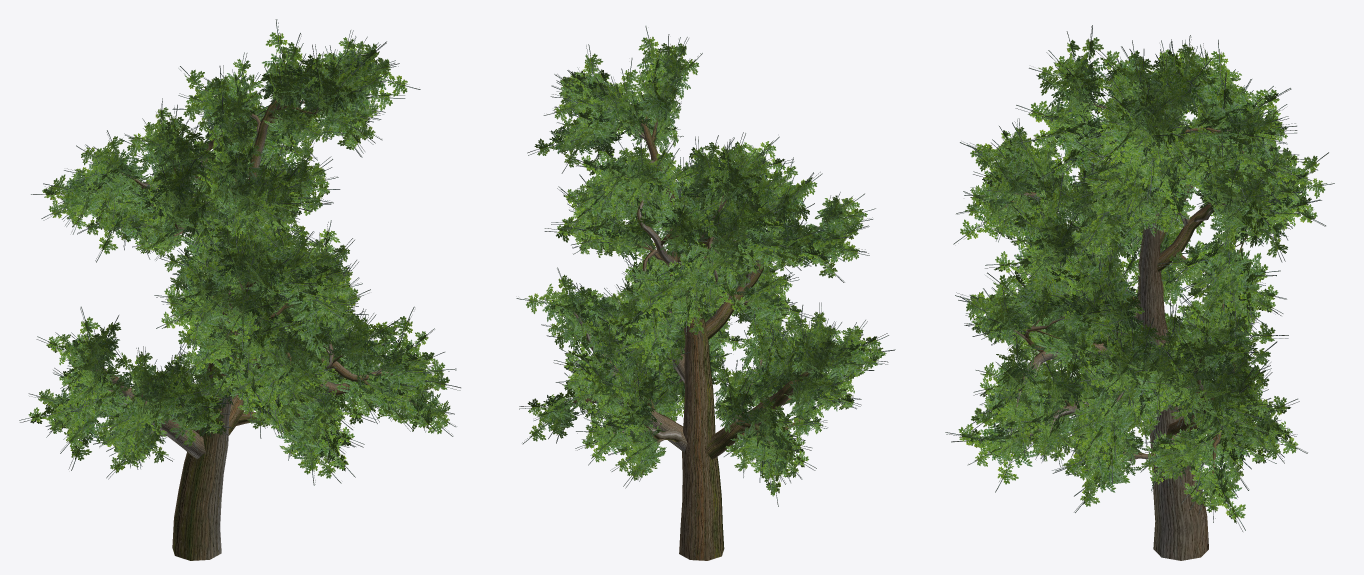
The model's file is eztree-black-walnut-open-a.glb.
3 renders of one model, left to right at view 1: azimuth 30°, elevation 25°; view 2: azimuth 150°, elevation 25°; view 3: azimuth 270°, elevation 25°, orthographic. The views are drawn at different scales.
Parts seen in each view (by area): view 1: eztree-black-walnut-open-a; view 2: eztree-black-walnut-open-a; view 3: eztree-black-walnut-open-a.
Part boxes in pixels (<box>): eztree-black-walnut-open-a: <box>19,19,460,560</box>; eztree-black-walnut-open-a: <box>516,26,895,560</box>; eztree-black-walnut-open-a: <box>945,25,1334,560</box>.
Bounding box in the file's own units: 50.31 × 64.98 × 43.16.
2 materials, 2 textured.
